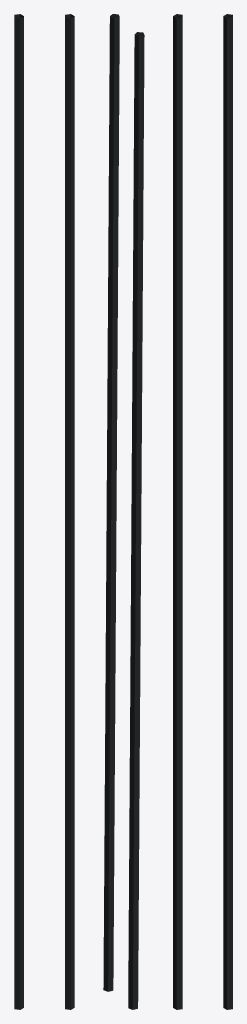
Rendered from SM_Bld_Crane_Hook_Wire_01.obj.
3 views of the same model, side by side, from view 1: azimuth 90°, elevation 25°; view 2: azimuth 210°, elevation 25°; view 3: azimuth 270°, elevation 25° (orthographic). The views are drawn at different scales.
Visible parts, largest first — view 1: SM_Bld_Crane_Hook_Wire_01_0; view 2: SM_Bld_Crane_Hook_Wire_01_0; view 3: SM_Bld_Crane_Hook_Wire_01_0.
Boxes of the visible parts, left/top/right/bottom form: SM_Bld_Crane_Hook_Wire_01_0: left=14, top=14, right=74, bottom=1009; SM_Bld_Crane_Hook_Wire_01_0: left=103, top=14, right=144, bottom=1009; SM_Bld_Crane_Hook_Wire_01_0: left=173, top=14, right=232, bottom=1009.
Bounding box in the file's own units: 0.111 × 6.85 × 0.3763.
Materials: 1 (1 with a texture image).
